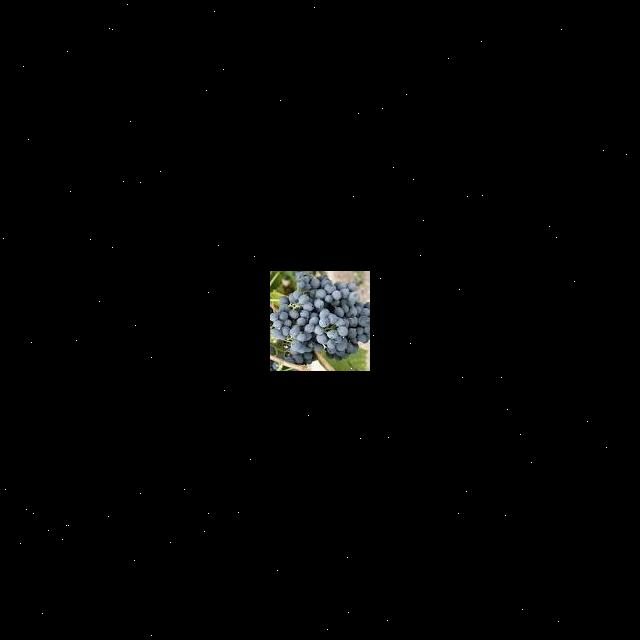grape: (270, 271, 369, 363)
